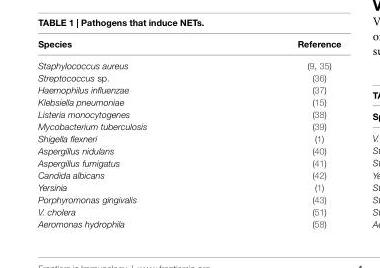table: (37, 37, 340, 228)
table column: (37, 37, 221, 228), (221, 37, 340, 228)
table column header: (37, 37, 340, 53)
table row: (37, 53, 340, 70), (37, 37, 340, 53), (37, 70, 340, 83), (37, 131, 340, 144), (37, 204, 340, 217), (37, 83, 340, 95), (37, 95, 340, 107), (37, 107, 340, 119), (37, 119, 340, 131), (37, 144, 340, 156), (37, 156, 340, 168), (37, 168, 340, 180), (37, 180, 340, 192), (37, 192, 340, 204), (37, 217, 340, 228)
